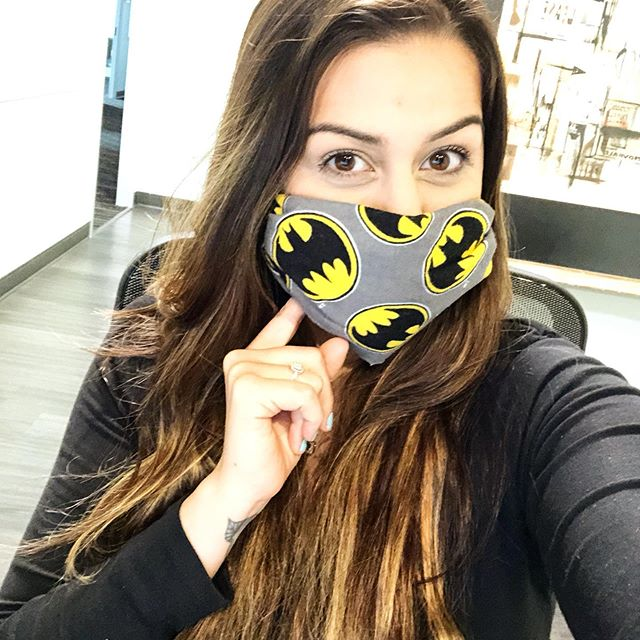homemade: (255, 185, 505, 373)
